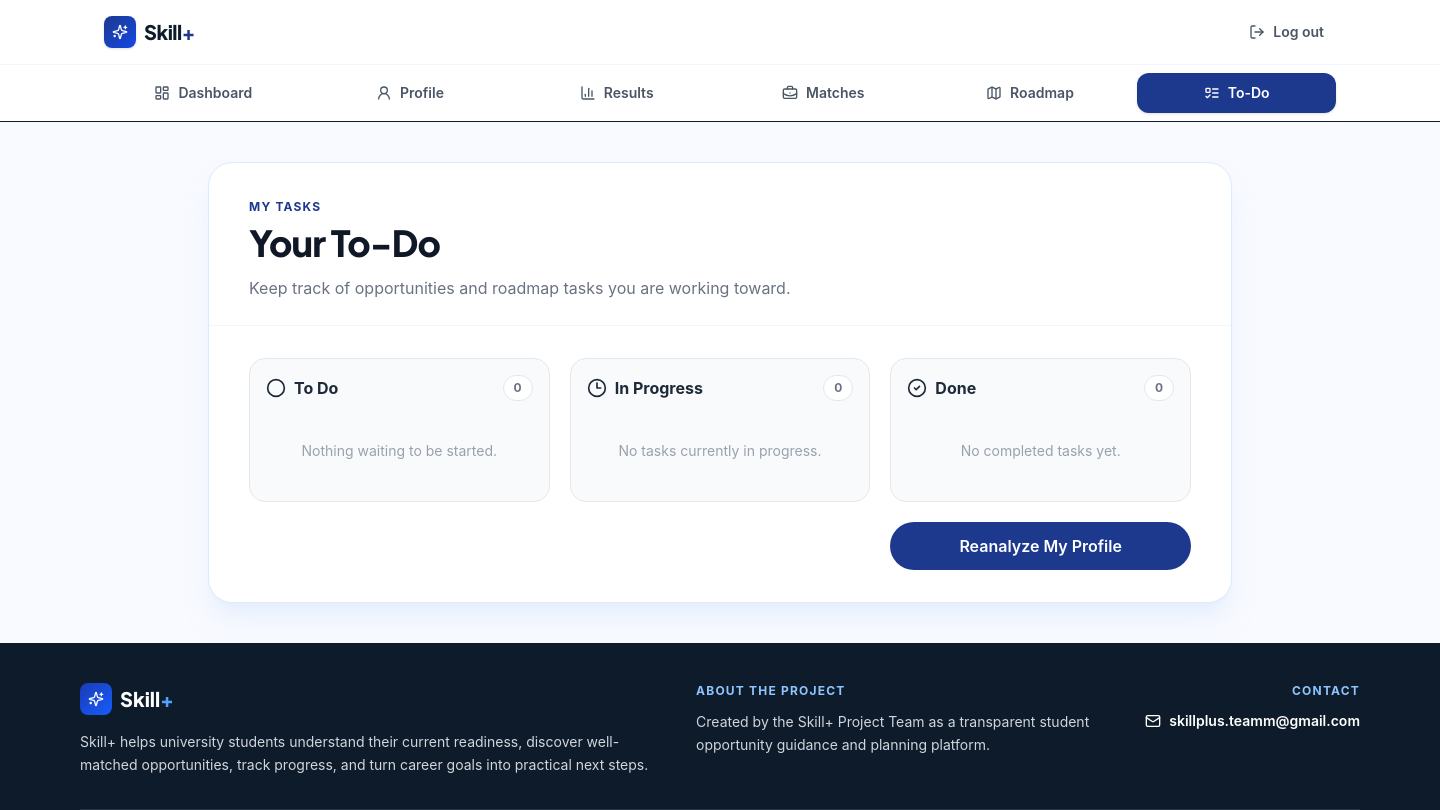
Test case: Issue #55 global frontend UX, navigation and integration › provides all six student links, highlights the current page and preserves logout
The width and height of the screenshot is (1440, 810).
Expected: the heading "Your To-Do" is shown, [249,220,440,265]
Click the button "Log out": [1287, 32] box [1237,14,1336,50]
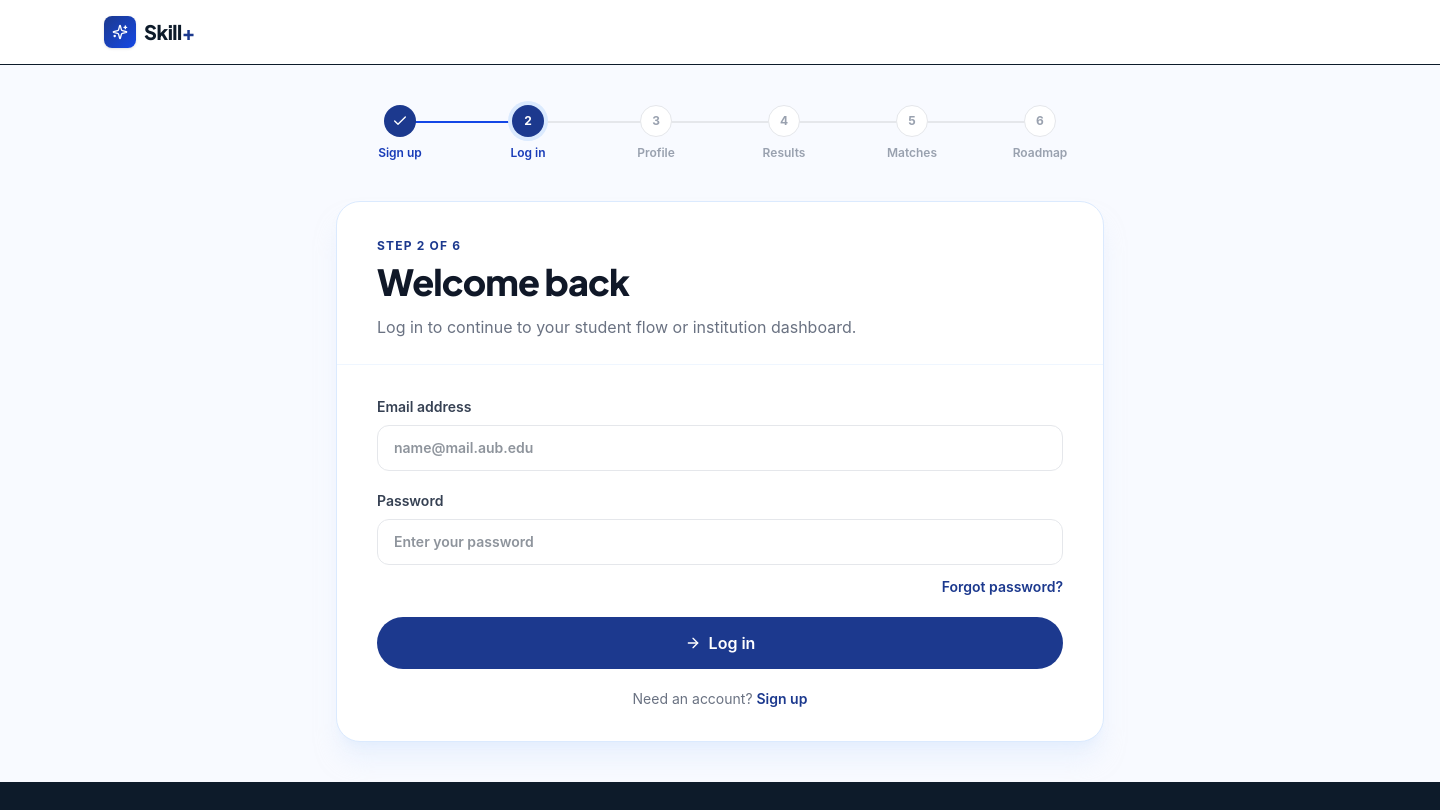
Now the heading "Welcome back" is shown, box [377,259,629,304]
